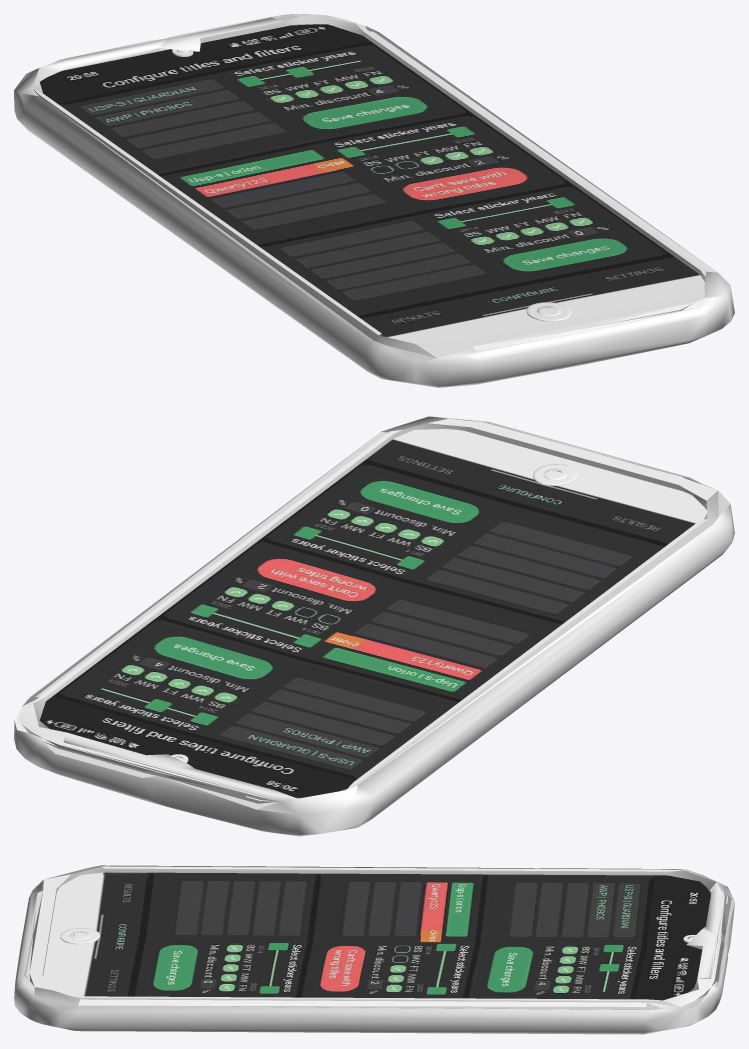
File: Phone.obj
3 renders of one model, top to bottom at view 1: azimuth 30°, elevation 25°; view 2: azimuth 150°, elevation 25°; view 3: azimuth 270°, elevation 25°, orthographic. The views are drawn at different scales.
Visible parts, largest first — view 1: objMesh; view 2: objMesh; view 3: objMesh.
Boxes of the visible parts, x1,y1,x2,y2 form: objMesh: (14,14,734,387); objMesh: (14,416,734,836); objMesh: (14,865,734,1034).
Bounding box in the file's own units: 1.09 × 0.1268 × 2.32.
Materials: 4 (4 with a texture image).
